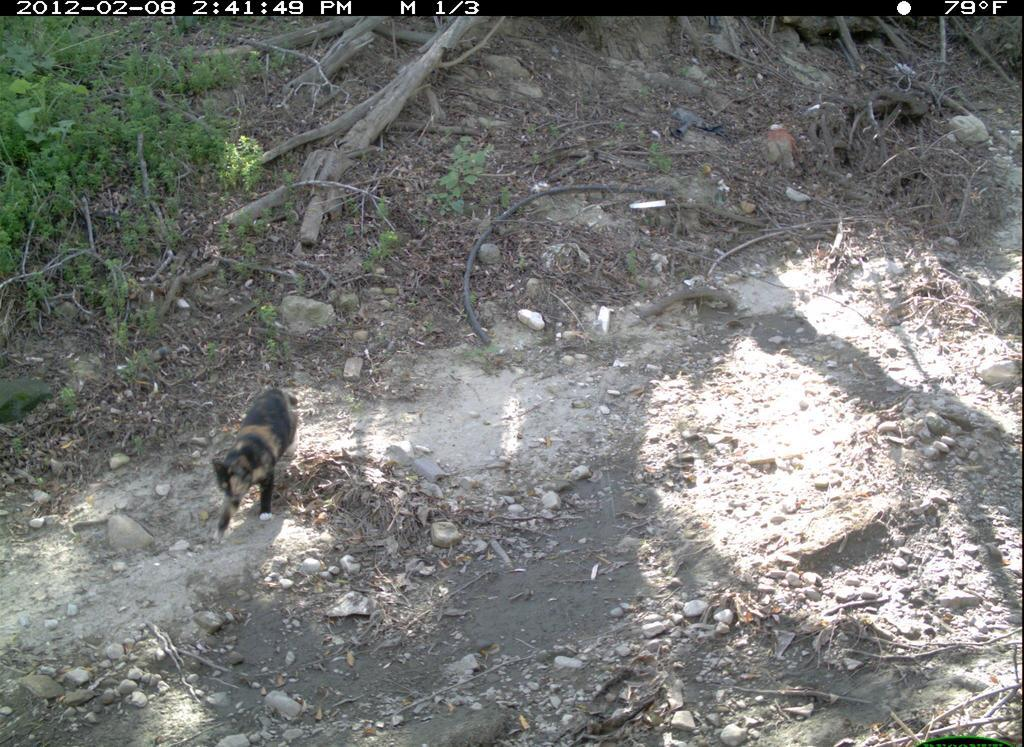cat: (203, 373, 323, 539)
